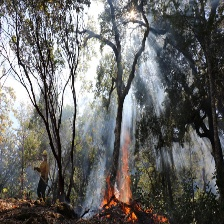fire: (95, 130, 168, 224)
smoke: (96, 77, 158, 142)
